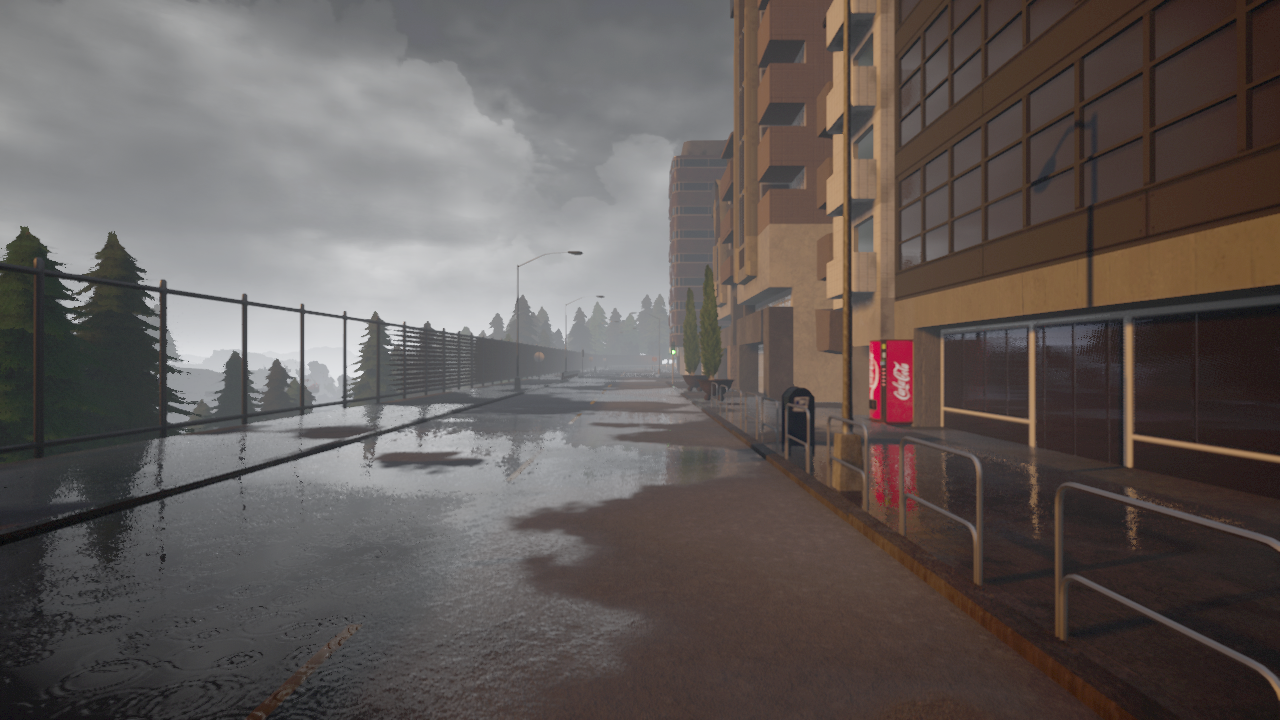green: (670, 341, 676, 355)
